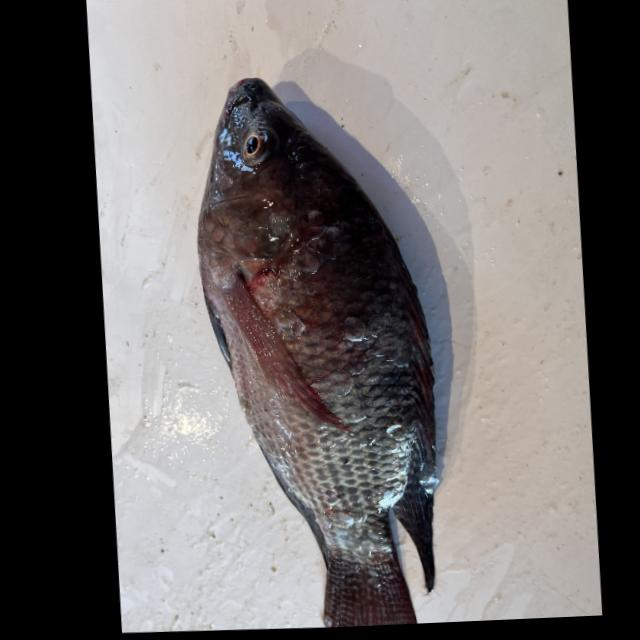Tilapia: (178, 71, 456, 632)
